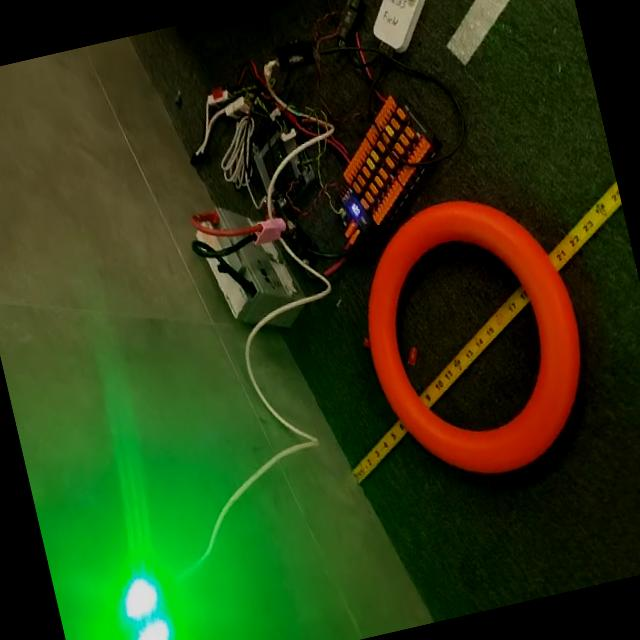note: (343, 179, 608, 496)
